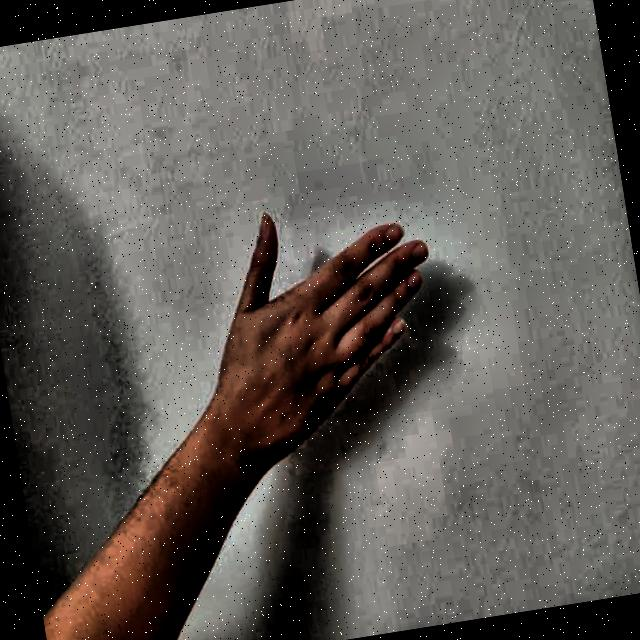Aa: (189, 159, 486, 481)
